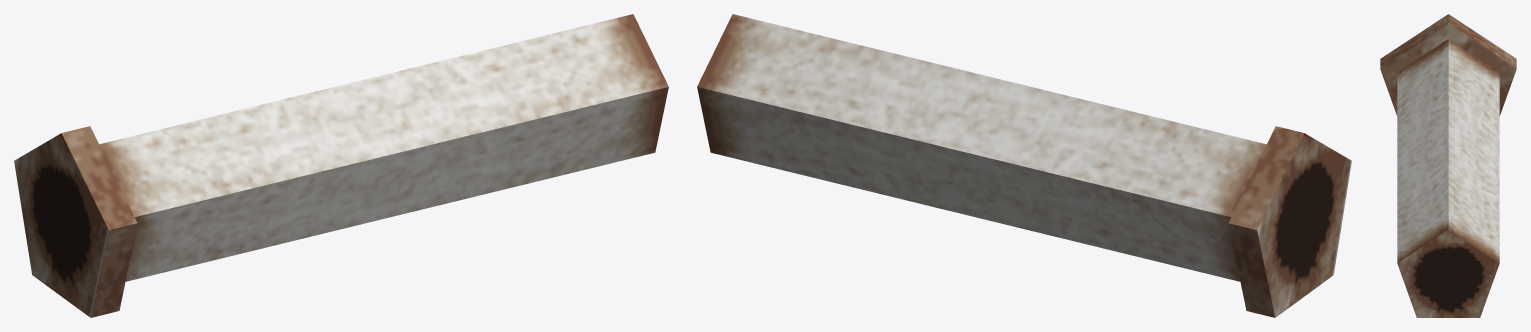
Rendered from long.glb.
3 views of the same model, side by side, from view 1: azimuth 30°, elevation 25°; view 2: azimuth 150°, elevation 25°; view 3: azimuth 270°, elevation 25° (orthographic). The views are drawn at different scales.
Parts seen in each view (by area): view 1: Pipe Long; view 2: Pipe Long; view 3: Pipe Long.
Boxes of the visible parts, left/top/right/bottom form: Pipe Long: left=14, top=14, right=668, bottom=317; Pipe Long: left=697, top=14, right=1351, bottom=317; Pipe Long: left=1380, top=14, right=1516, bottom=317.
Size of the model in its own units: 0.9937 by 0.2714 by 0.2853.
1 material, 1 textured.
